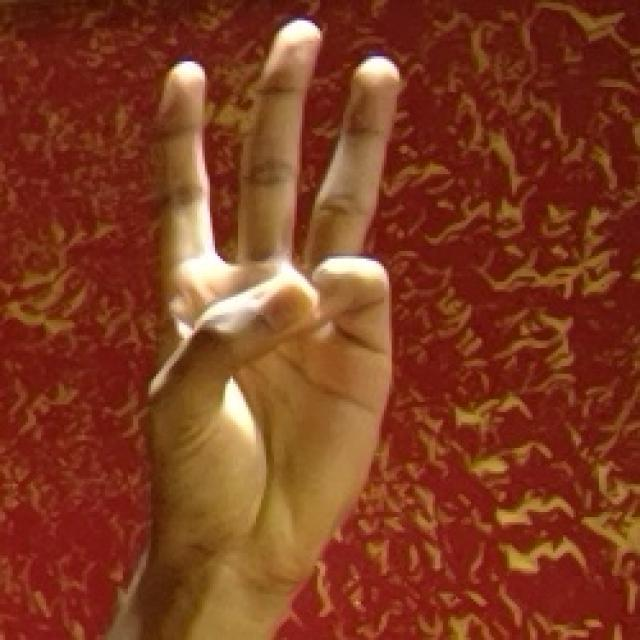Numeric-6: (138, 14, 431, 580)
